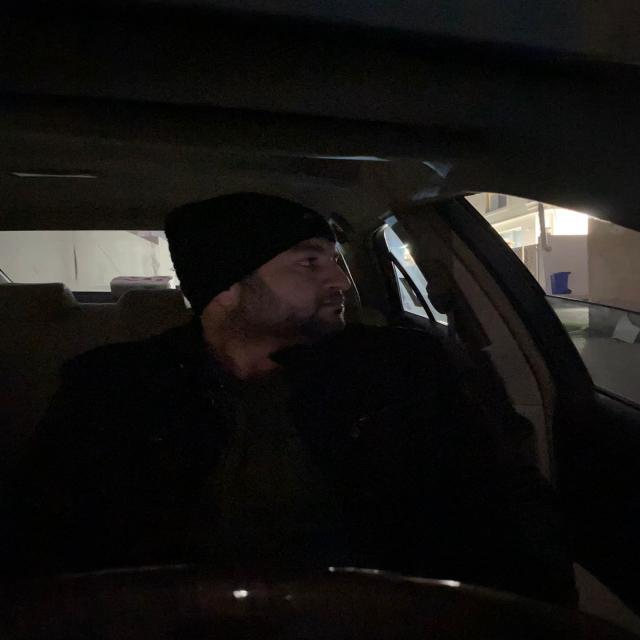LeftRight: (162, 184, 364, 353)
